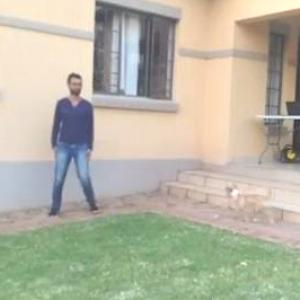follow: (64, 76, 107, 218)
